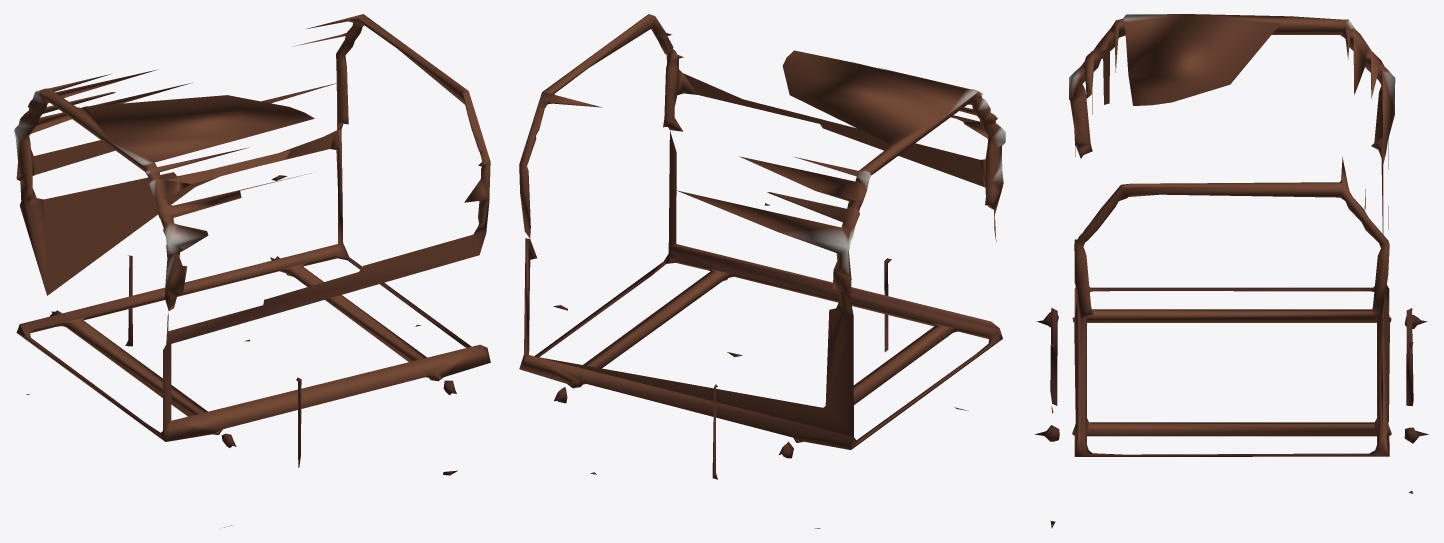
The model's file is Carts and Wagons.glb.
3 views of the same model, side by side, from view 1: azimuth 30°, elevation 25°; view 2: azimuth 150°, elevation 25°; view 3: azimuth 270°, elevation 25° (orthographic). The views are drawn at different scales.
Visible parts, largest first — view 1: Root.003; view 2: Root.003; view 3: Root.003, Root.004, Root.010.
Boxes of the visible parts, x1,y1,x2,y2 form: Root.003: (14,14,490,441); Root.003: (519,14,1005,449); Root.003: (1069,14,1395,456); Root.004: (1050,308,1057,405); Root.010: (1406,308,1413,406).
Size of the model in its own units: 2.99 by 3.09 by 2.97.
